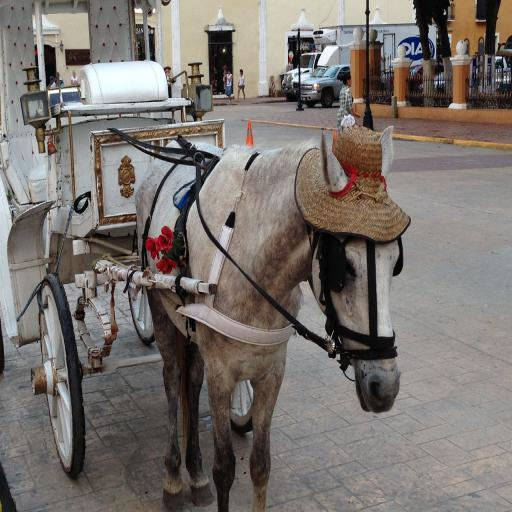horse: (134, 124, 400, 512)
